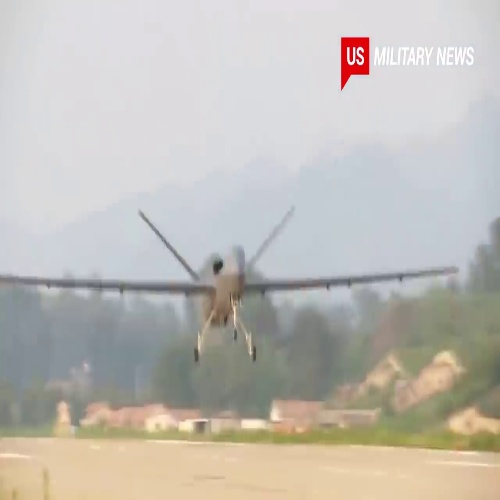uav: (1, 207, 462, 361)
